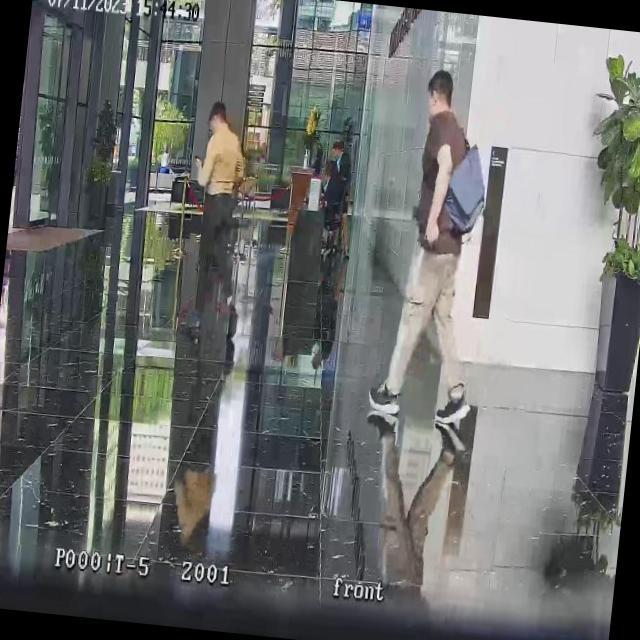person: (364, 64, 504, 435), (180, 99, 253, 318), (194, 100, 252, 200), (320, 138, 360, 258), (316, 159, 342, 220)
